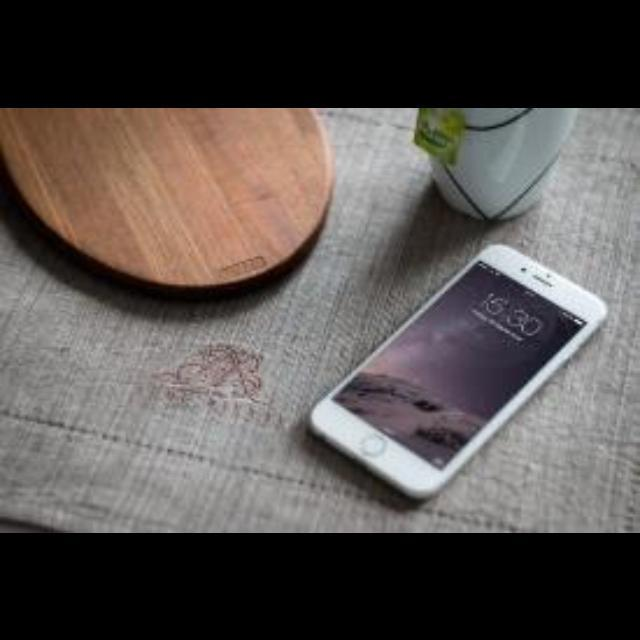phone: (292, 233, 620, 523)
